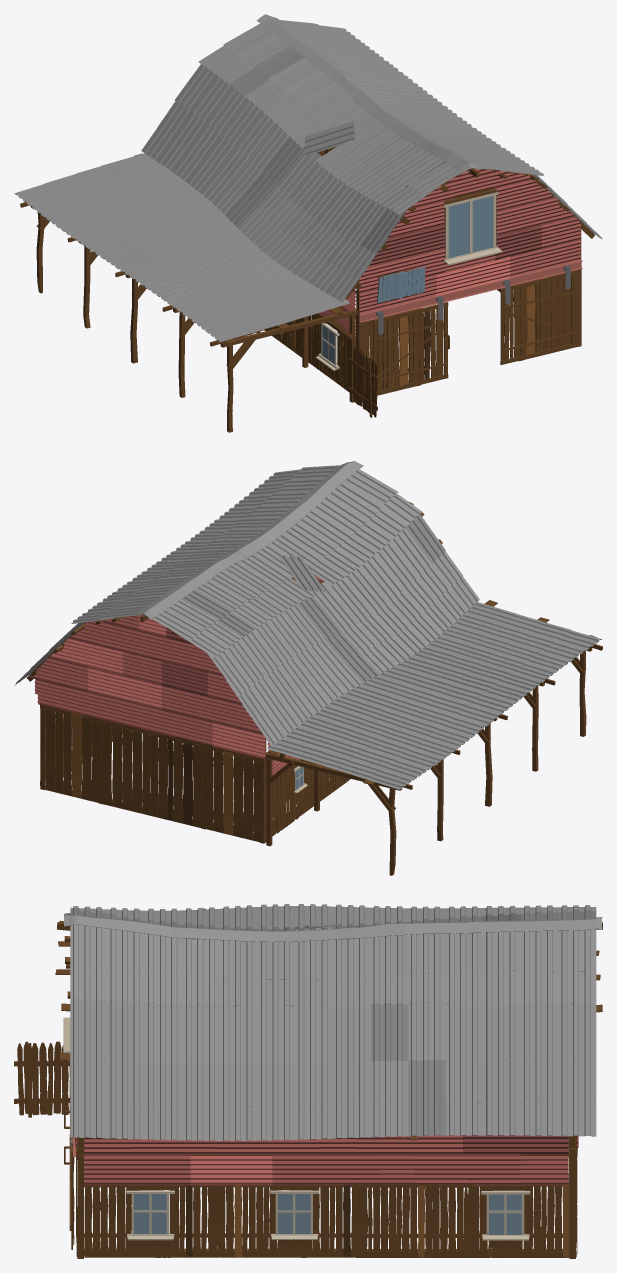
Rendered from Granja.glb.
The picture shows the model from 3 angles, top to bottom: view 1: azimuth 30°, elevation 25°; view 2: azimuth 150°, elevation 25°; view 3: azimuth 270°, elevation 25°; orthographic projection. The views are drawn at different scales.
Visible parts, largest first — view 1: farm; view 2: farm; view 3: farm.
Part boxes in pixels (x1,y1,x2,y2): farm: (14, 14, 602, 432); farm: (14, 461, 602, 875); farm: (14, 904, 602, 1258).
Bounding box in the file's own units: 10.71 × 5.57 × 10.85.
